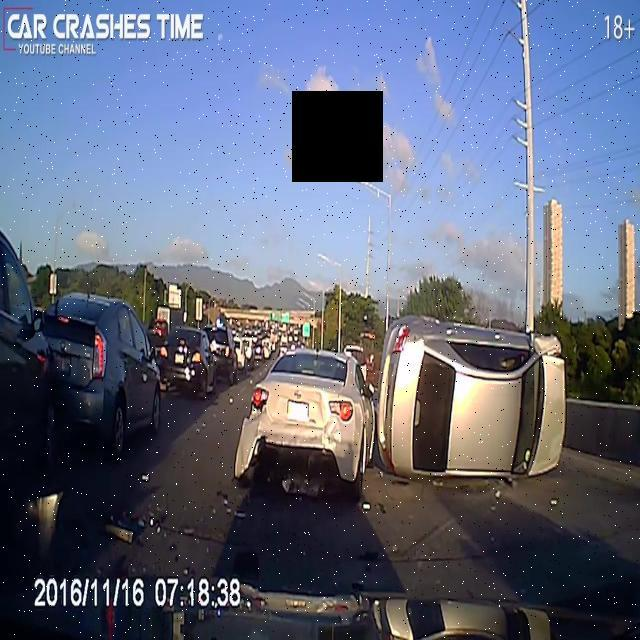severe: (234, 311, 570, 505)
